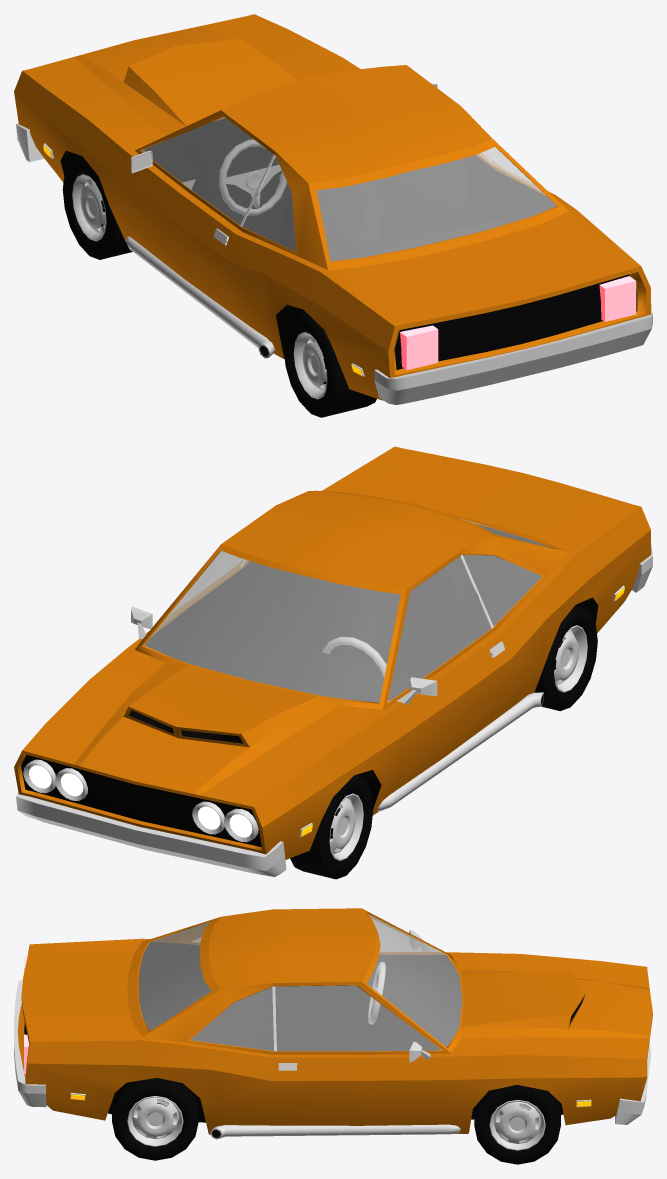
Rendered from muscle-car.glb.
3 views of the same model, one above another, from view 1: azimuth 30°, elevation 25°; view 2: azimuth 150°, elevation 25°; view 3: azimuth 270°, elevation 25° (orthographic). The views are drawn at different scales.
Visible parts, largest first — view 1: body, wheel-rear-left, wheel-front-left; view 2: body, wheel-front-left, wheel-rear-left; view 3: body, wheel-rear-right, wheel-front-right.
Part boxes in pixels (x1=…): body: x1=14, y1=14, x2=652, y2=404; wheel-rear-left: x1=283, y1=312, x2=376, y2=417; wheel-front-left: x1=62, y1=155, x2=132, y2=259; body: x1=14, y1=446, x2=652, y2=876; wheel-front-left: x1=290, y1=775, x2=373, y2=879; wheel-rear-left: x1=534, y1=605, x2=597, y2=711; body: x1=14, y1=908, x2=652, y2=1139; wheel-rear-right: x1=112, y1=1078, x2=198, y2=1160; wheel-front-right: x1=474, y1=1085, x2=560, y2=1164.
Bounding box in the file's own units: 2.11 × 1.39 × 4.7.
